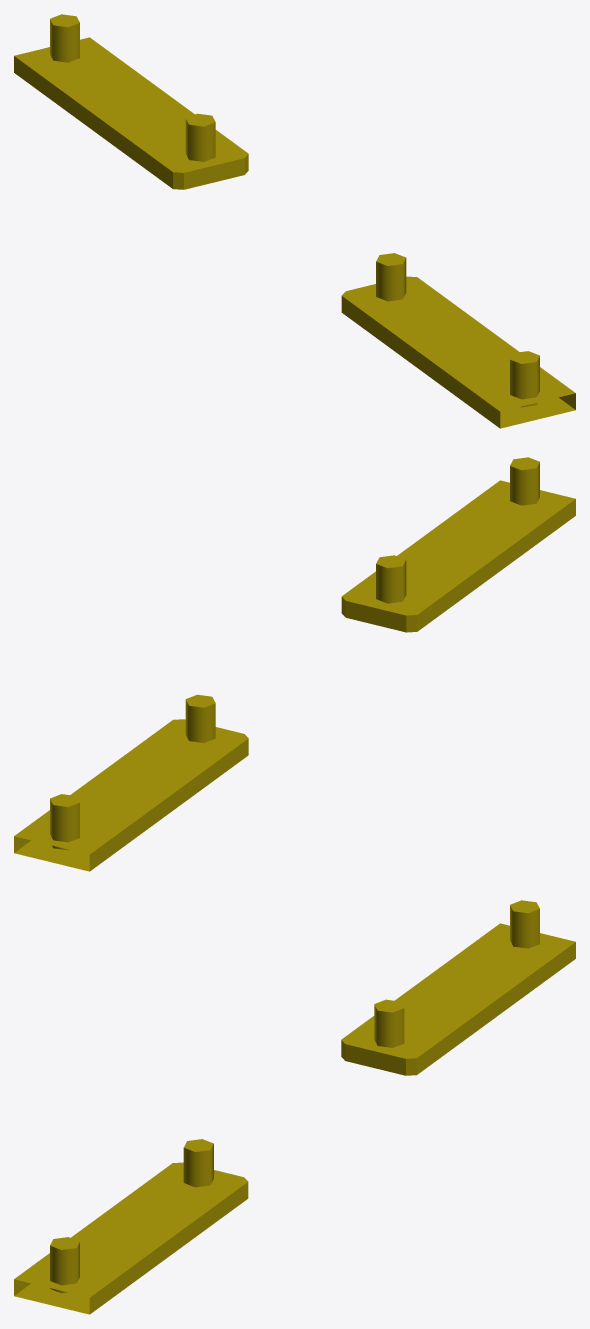
Rendered from mur2_sota.fbx.
The picture shows the model from 3 angles, top to bottom: view 1: azimuth 30°, elevation 25°; view 2: azimuth 150°, elevation 25°; view 3: azimuth 330°, elevation 25°; orthographic projection.
Parts seen in each view (by area): view 1: mur2_sota; view 2: mur2_sota; view 3: mur2_sota.
Part boxes in pixels (left/top/right/bottom): mur2_sota: left=14, top=14, right=575, bottom=428; mur2_sota: left=14, top=457, right=575, bottom=871; mur2_sota: left=14, top=900, right=575, bottom=1314.
Size of the model in its own units: 0.8993 by 0.5934 by 10.
